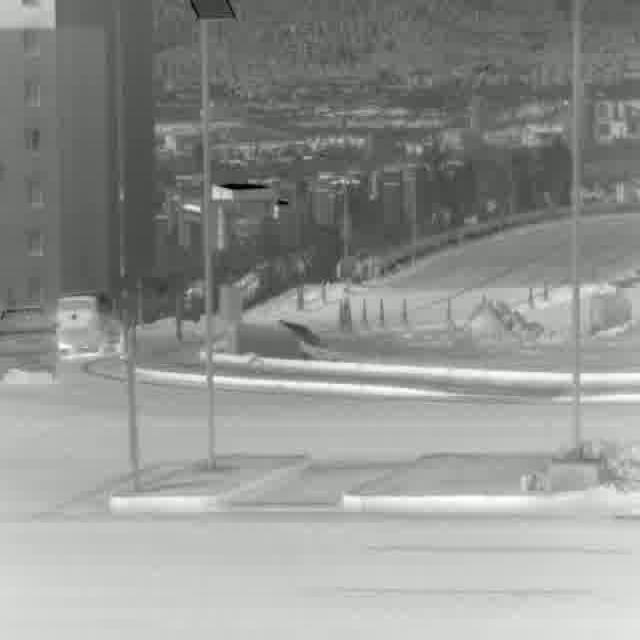Car: (59, 284, 124, 359), (0, 307, 56, 383)
